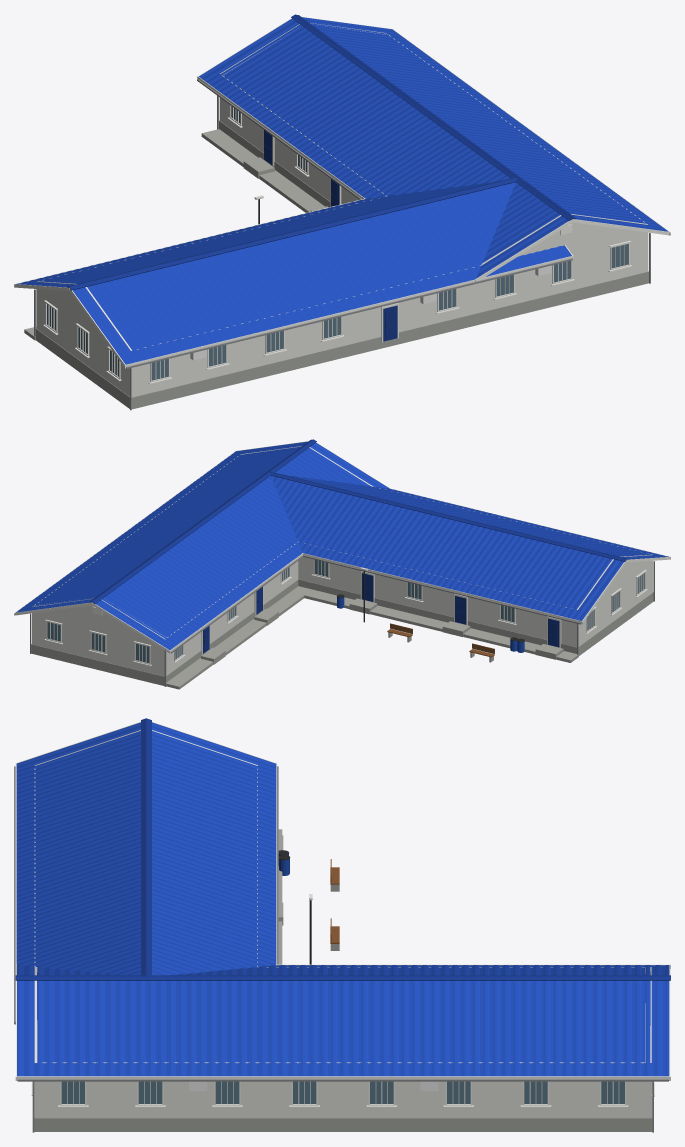
File: h09-sekre-ukm.glb
3 views of the same model, one above another, from view 1: azimuth 30°, elevation 25°; view 2: azimuth 150°, elevation 25°; view 3: azimuth 270°, elevation 25° (orthographic). The views are drawn at different scales.
Parts seen in each view (by area): view 1: EX_unri:atap-biru, EX_unri:dinding, EX_unri:plint, EX_unri:kusen, EX_unri:atap-bubungan, EX_unri:kaca, EX_unri:beton, EX_unri:talang, EX_unri:pintu-biru; view 2: EX_unri:atap-biru, EX_unri:dinding, EX_unri:kusen, EX_unri:beton, EX_unri:plint, EX_unri:atap-bubungan, EX_unri:kaca, EX_unri:talang, EX_unri:pintu-biru, EX_unri:kayu; view 3: EX_unri:atap-biru, EX_unri:dinding, EX_unri:plint, EX_unri:kusen, EX_unri:atap-bubungan, EX_unri:kaca, EX_unri:talang, EX_unri:beton.
Part boxes in pixels (box(x1,y1,x2,y2)): EX_unri:atap-biru: box(17, 17, 668, 364); EX_unri:dinding: box(36, 23, 648, 397); EX_unri:plint: box(35, 120, 648, 409); EX_unri:kusen: box(14, 16, 670, 384); EX_unri:atap-bubungan: box(67, 14, 576, 290); EX_unri:kaca: box(47, 106, 628, 380); EX_unri:beton: box(24, 129, 328, 340); EX_unri:talang: box(34, 79, 670, 410); EX_unri:pintu-biru: box(264, 130, 397, 341); EX_unri:atap-biru: box(16, 441, 668, 650); EX_unri:dinding: box(32, 446, 653, 676); EX_unri:kusen: box(14, 441, 670, 666); EX_unri:beton: box(166, 586, 578, 689); EX_unri:plint: box(31, 579, 653, 685); EX_unri:atap-bubungan: box(89, 439, 628, 603); EX_unri:kaca: box(47, 560, 644, 663); EX_unri:talang: box(14, 555, 654, 686); EX_unri:pintu-biru: box(203, 573, 559, 653); EX_unri:kayu: box(387, 623, 494, 657); EX_unri:atap-biru: box(16, 722, 669, 1076); EX_unri:dinding: box(34, 730, 651, 1117); EX_unri:plint: box(34, 1096, 652, 1131); EX_unri:kusen: box(15, 722, 670, 1107); EX_unri:atap-bubungan: box(15, 718, 670, 980); EX_unri:kaca: box(61, 1081, 624, 1103); EX_unri:talang: box(14, 766, 668, 1132); EX_unri:beton: box(278, 829, 339, 964).
Bounding box in the file's own units: 36.67 × 5.87 × 32.38.
